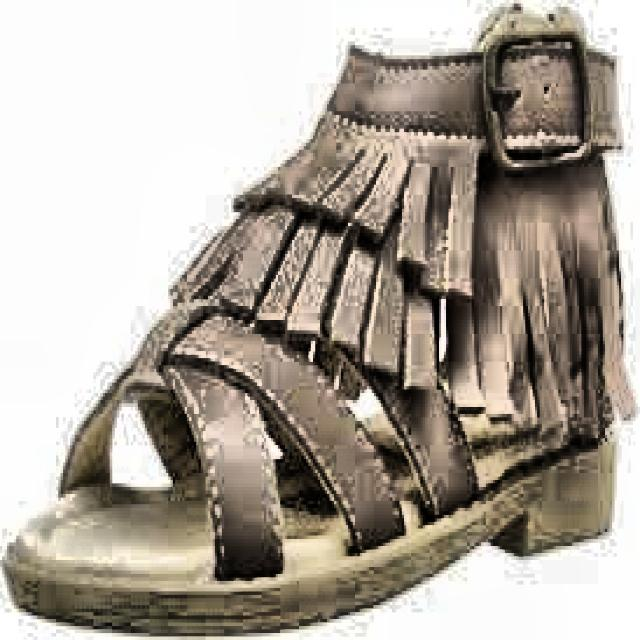shoes: (4, 6, 628, 636)
